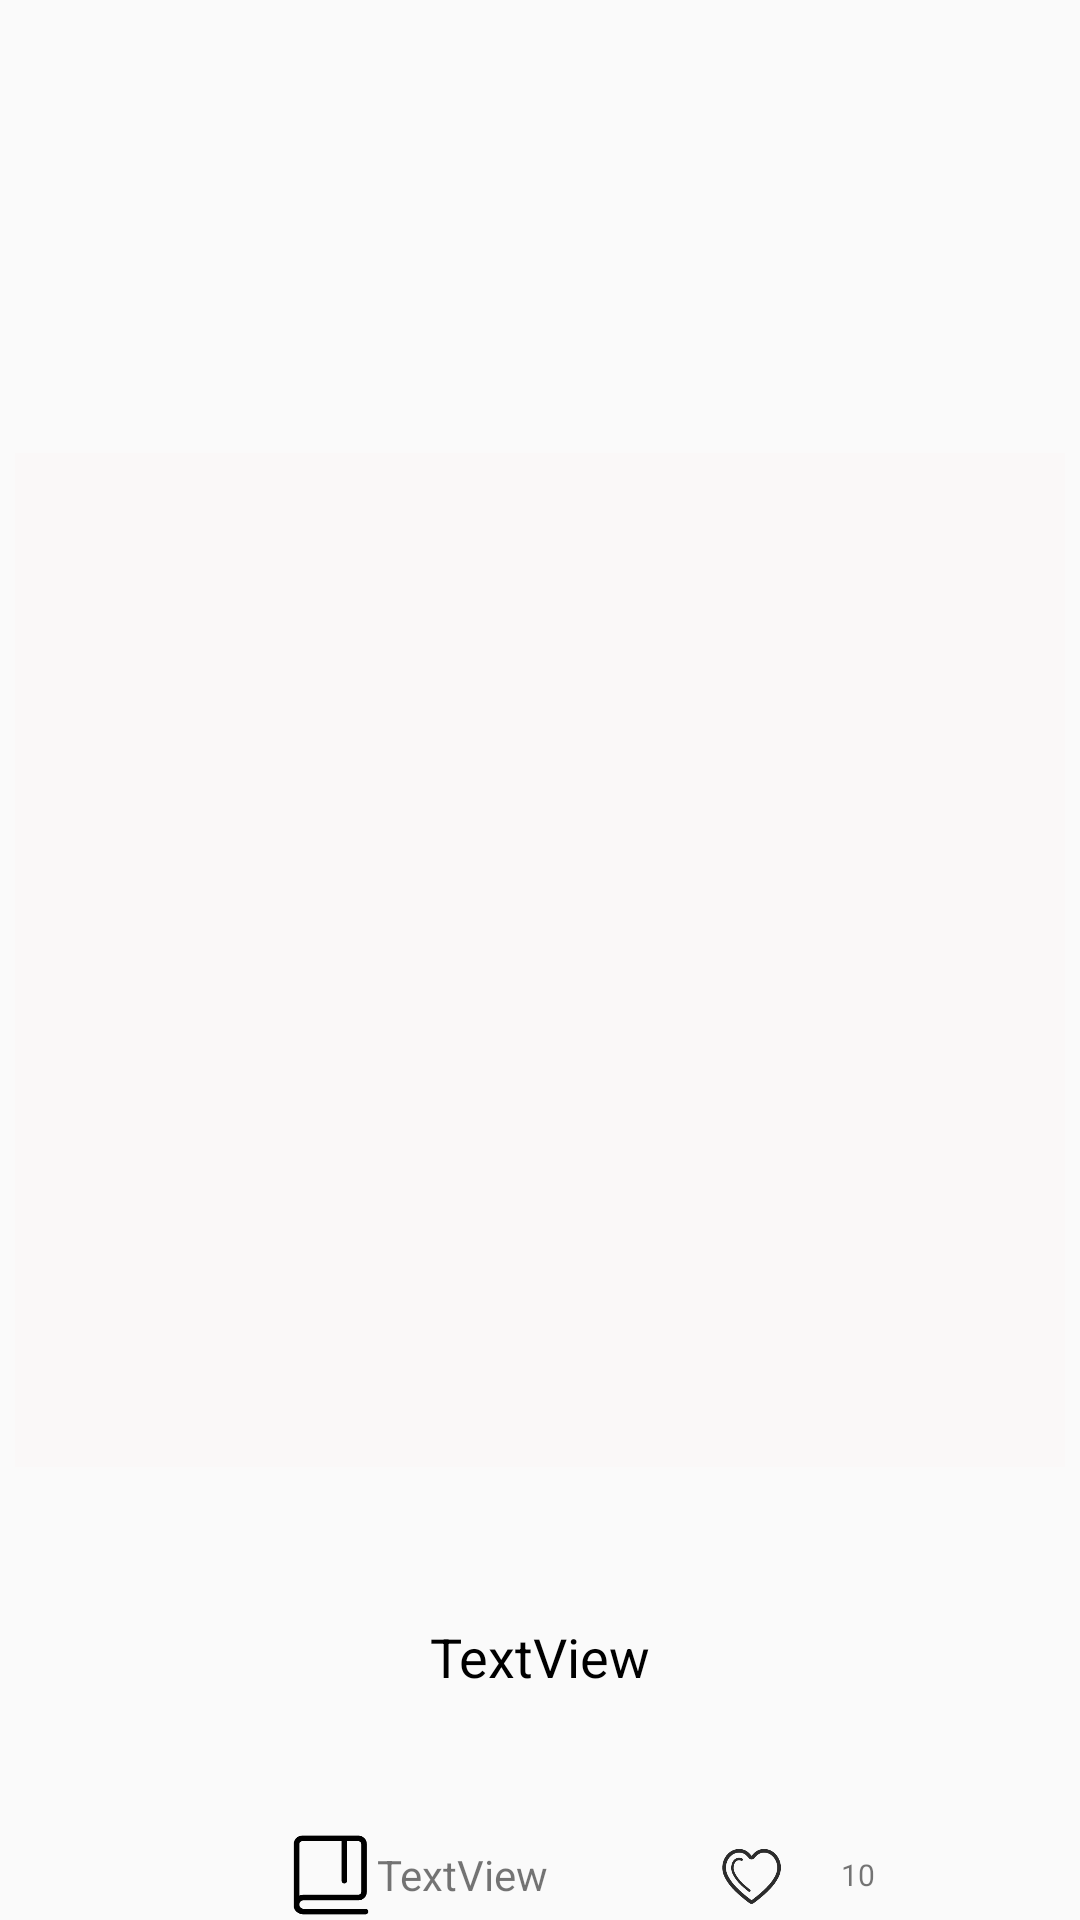

Locate icon controls on the screen. Image size 1080x1920, boxes as (x1, y1, x2, y2).
study: (293, 1835, 369, 1915)
